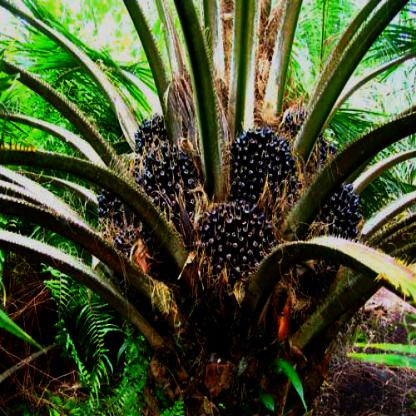palm-oil: (193, 201, 278, 295), (223, 119, 302, 210), (308, 180, 362, 289), (138, 148, 205, 219), (282, 99, 330, 158), (96, 192, 139, 239), (131, 115, 169, 151)
